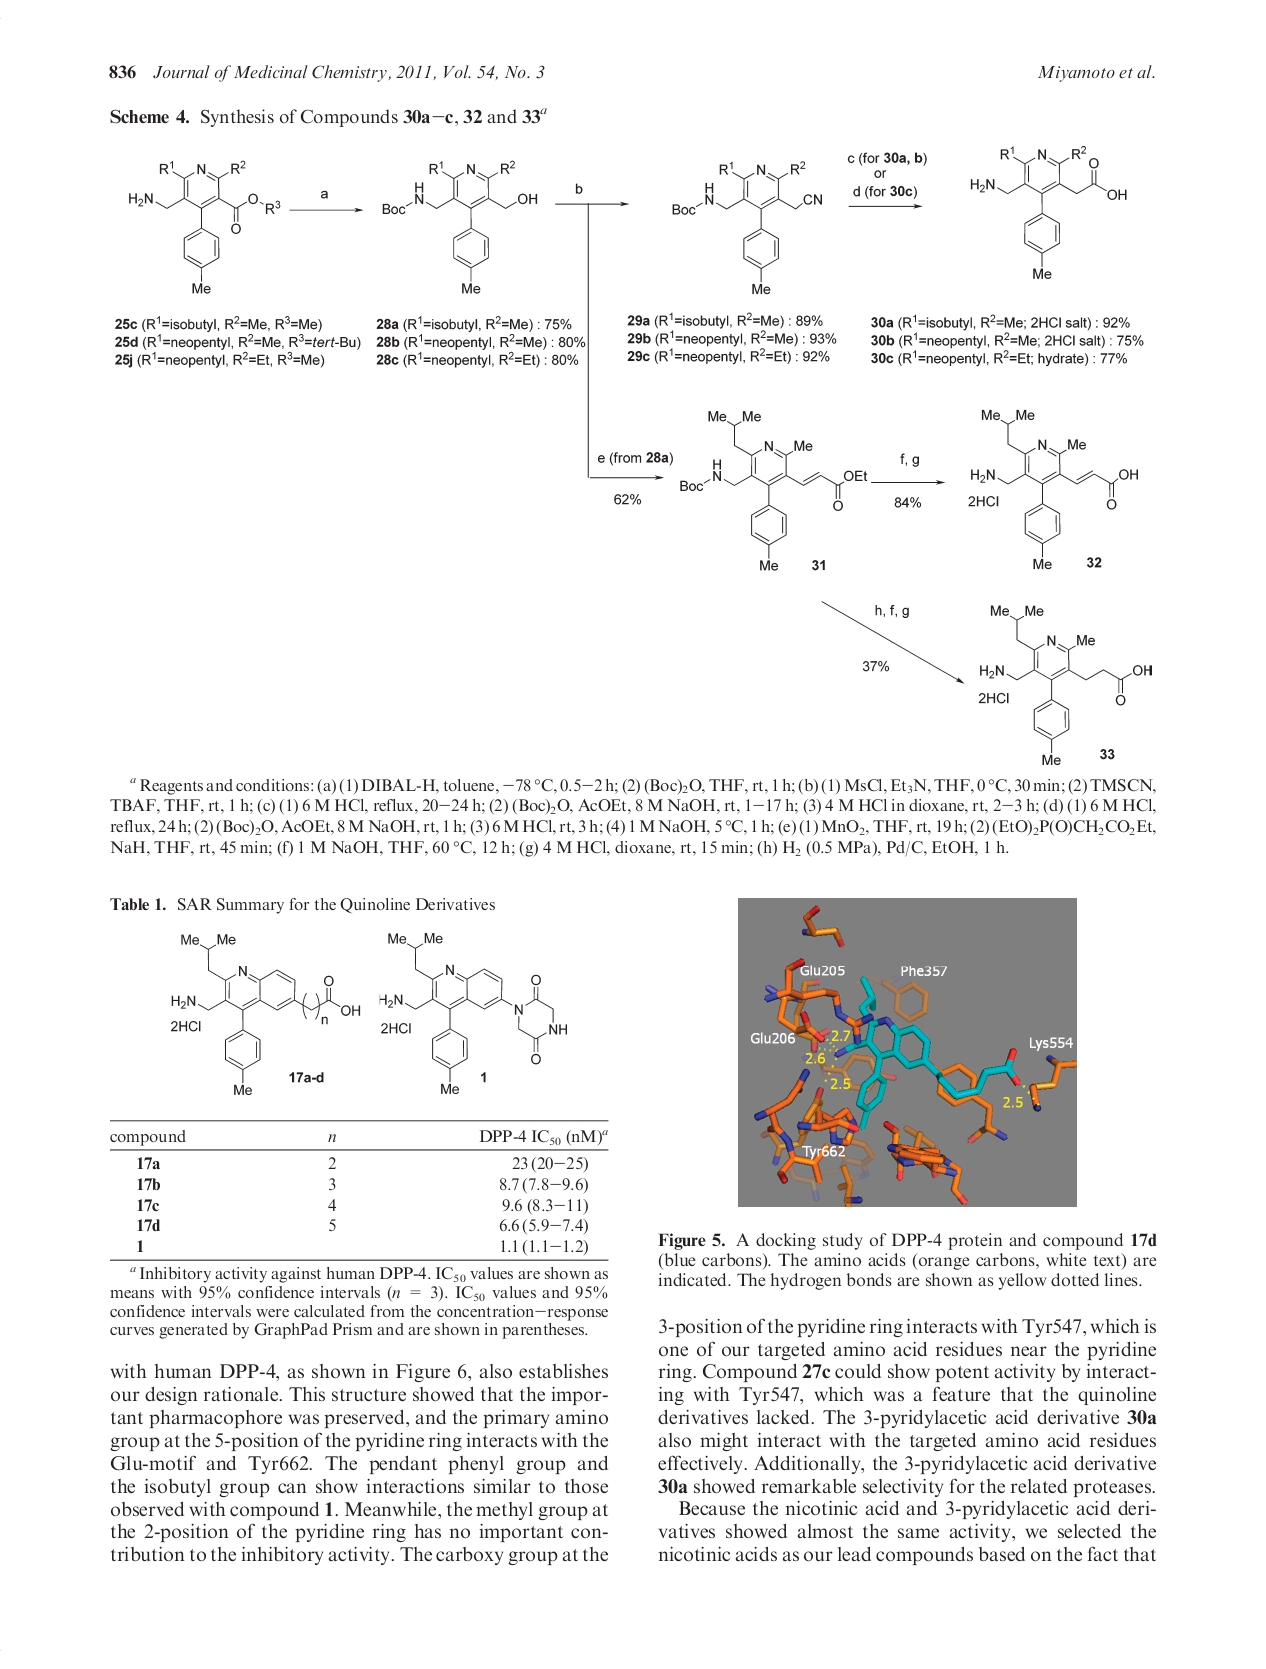exist_molecular: (676, 406, 871, 576), (168, 928, 363, 1097), (376, 928, 569, 1096), (964, 402, 1142, 573), (976, 601, 1156, 767), (961, 141, 1133, 283), (666, 154, 830, 298), (375, 154, 540, 297), (124, 154, 285, 298)
